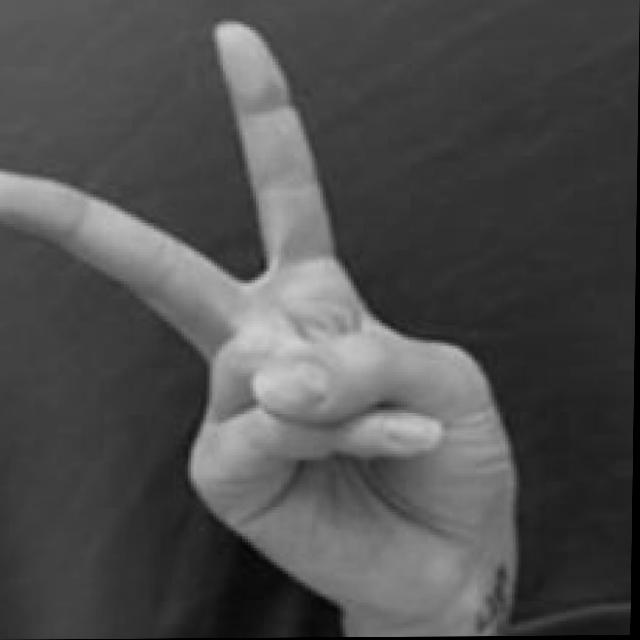V: (0, 16, 529, 639)
